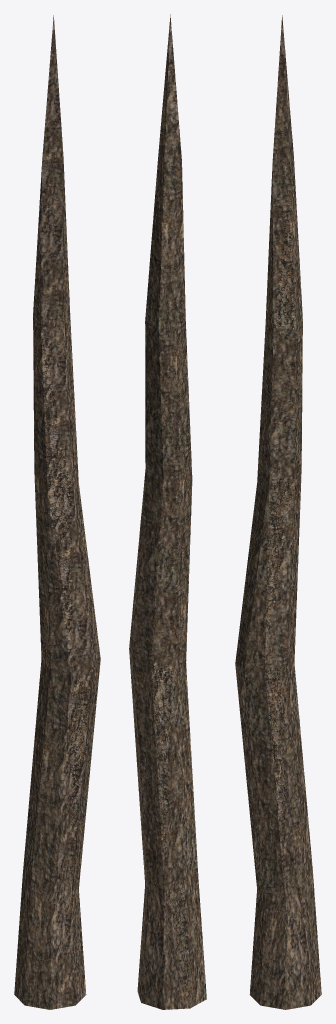
The model's file is bark.obj.
3 views of the same model, side by side, from view 1: azimuth 90°, elevation 25°; view 2: azimuth 210°, elevation 25°; view 3: azimuth 270°, elevation 25° (orthographic).
Visible parts, largest first — view 1: cedar_LOD_1500_Cylinder.001; view 2: cedar_LOD_1500_Cylinder.001; view 3: cedar_LOD_1500_Cylinder.001.
Part boxes in pixels (<box>): cedar_LOD_1500_Cylinder.001: <box>14,15,100,1009</box>; cedar_LOD_1500_Cylinder.001: <box>129,14,206,1009</box>; cedar_LOD_1500_Cylinder.001: <box>235,15,321,1009</box>.
Size of the model in its own units: 0.738 by 11.12 by 0.8886.
Materials: 1 (1 with a texture image).
